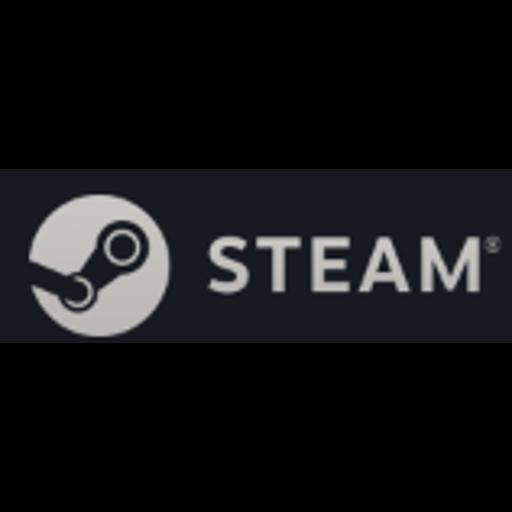Steam: (0, 169, 512, 343)
